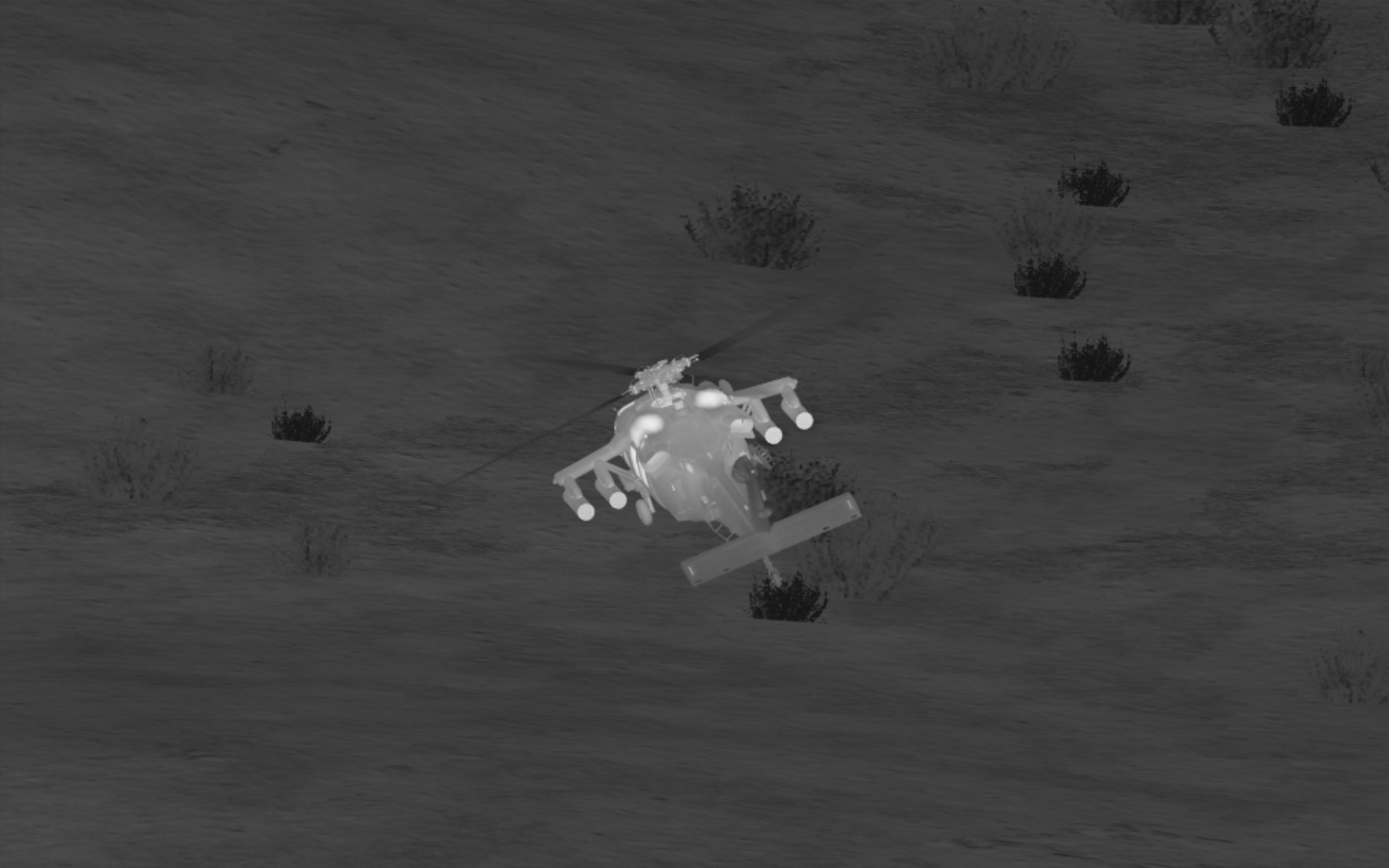ah/uh60: (553, 355, 860, 590)
